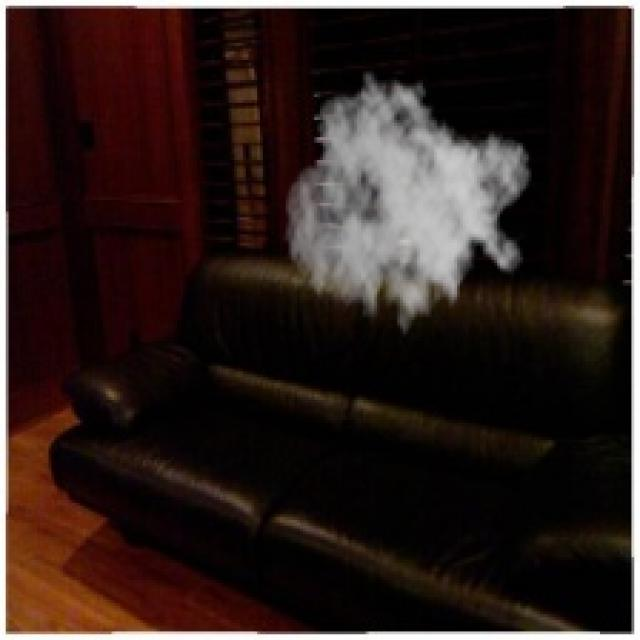smoke: (283, 68, 534, 352)
